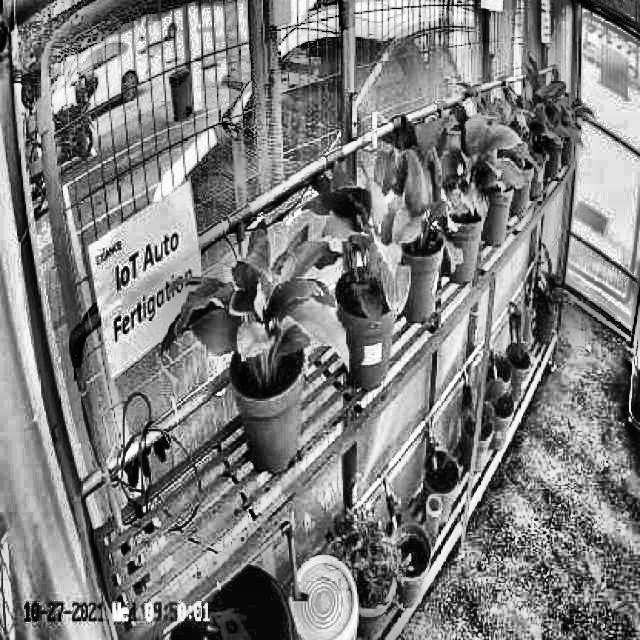plants: (161, 220, 350, 386), (315, 170, 414, 328), (364, 112, 460, 262), (432, 111, 526, 215)
